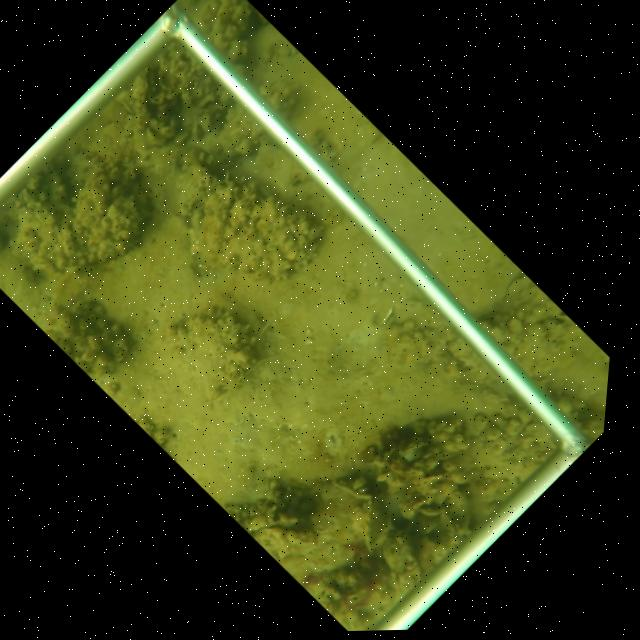Oyster-Closed: (415, 506, 442, 519)
Oyster-Indeterminate: (373, 304, 395, 326)
Oyster-Open: (245, 512, 314, 559)
